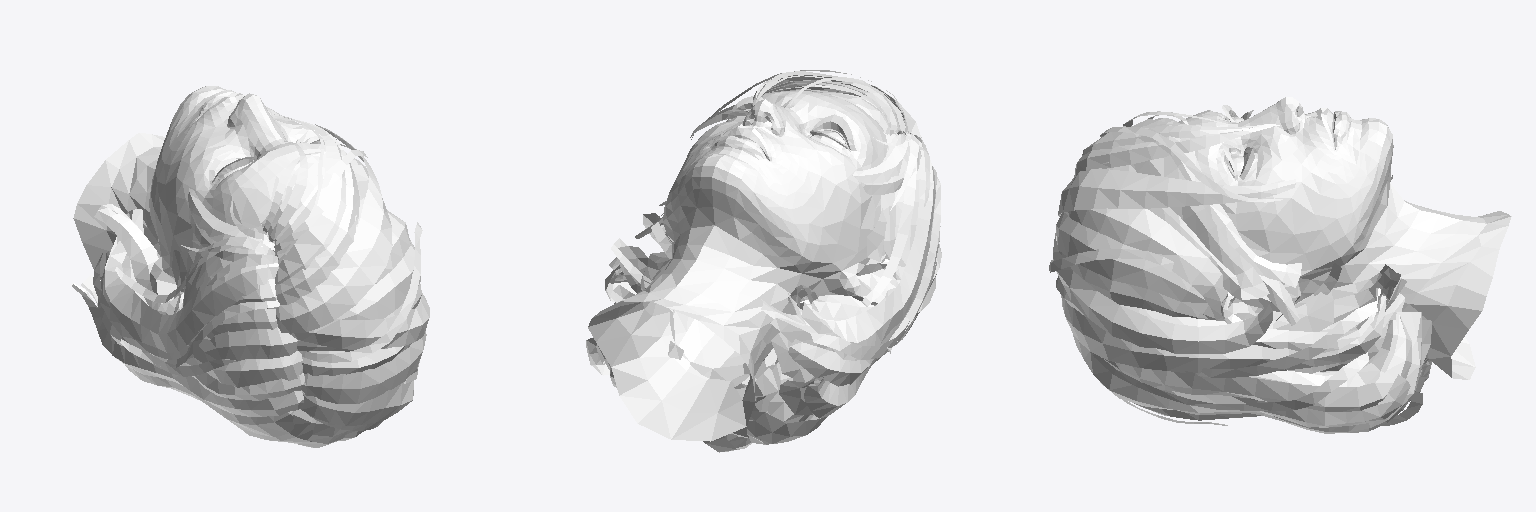
Rendered from head.obj.
The picture shows the model from 3 angles: view 1: azimuth 30°, elevation 25°; view 2: azimuth 150°, elevation 25°; view 3: azimuth 270°, elevation 25°; orthographic projection.
Parts seen in each view (by area): view 1: femshep:2, femshep:6, femshep:4, femshep:3; view 2: femshep:2, femshep:6, femshep:4, femshep:3; view 3: femshep:2, femshep:6, femshep:4, femshep:3.
Boxes of the visible parts, x1=… form: femshep:2: x1=71, y1=114, x2=429, y2=447; femshep:6: x1=149, y1=86, x2=345, y2=265; femshep:4: x1=73, y1=133, x2=200, y2=314; femshep:3: x1=209, y1=130, x2=336, y2=182; femshep:2: x1=586, y1=70, x2=941, y2=452; femshep:6: x1=663, y1=90, x2=887, y2=278; femshep:4: x1=588, y1=120, x2=900, y2=441; femshep:3: x1=722, y1=96, x2=856, y2=151; femshep:2: x1=1049, y1=111, x2=1431, y2=433; femshep:6: x1=1178, y1=97, x2=1404, y2=279; femshep:4: x1=1221, y1=200, x2=1511, y2=379; femshep:3: x1=1222, y1=105, x2=1254, y2=180.
Size of the model in its own units: 14.8 by 17.36 by 22.92.